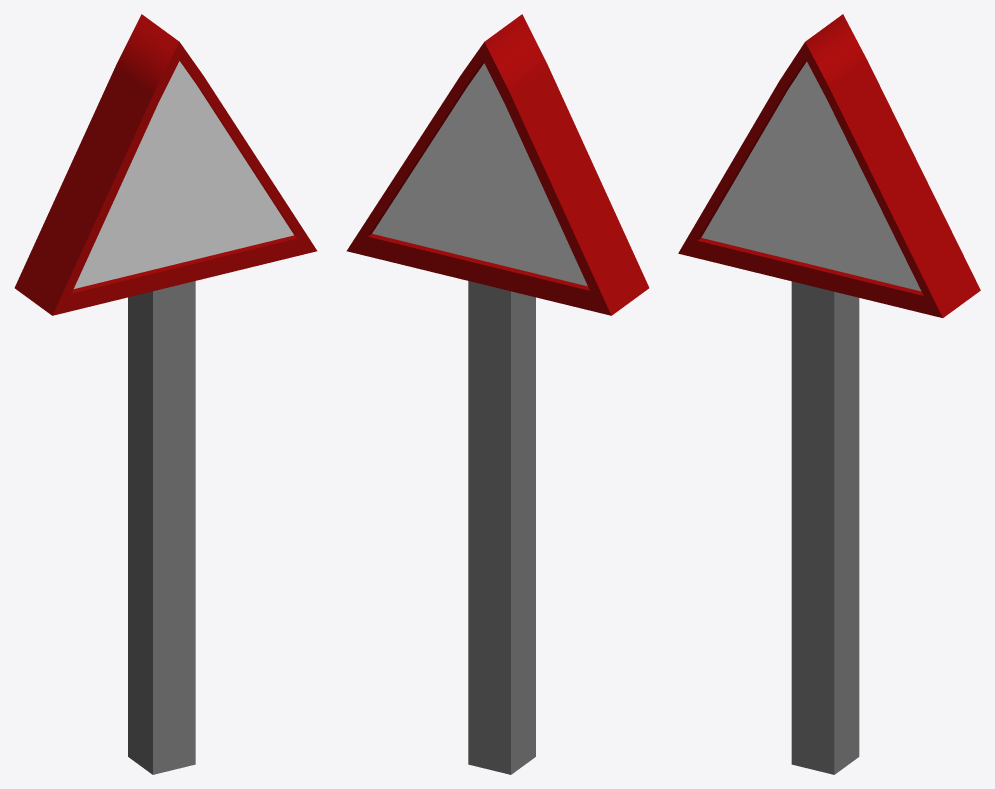
Rendered from Decoration_WarningSign.fbx.
3 views of the same model, side by side, from view 1: azimuth 30°, elevation 25°; view 2: azimuth 150°, elevation 25°; view 3: azimuth 330°, elevation 25° (orthographic).
Visible parts, largest first — view 1: pCube4; view 2: pCube4; view 3: pCube4.
Boxes of the visible parts, x1=… form: pCube4: x1=14, y1=14, x2=317, y2=774; pCube4: x1=346, y1=14, x2=649, y2=774; pCube4: x1=678, y1=14, x2=980, y2=774.
Size of the model in its own units: 2.24 by 5.91 by 0.5542.
